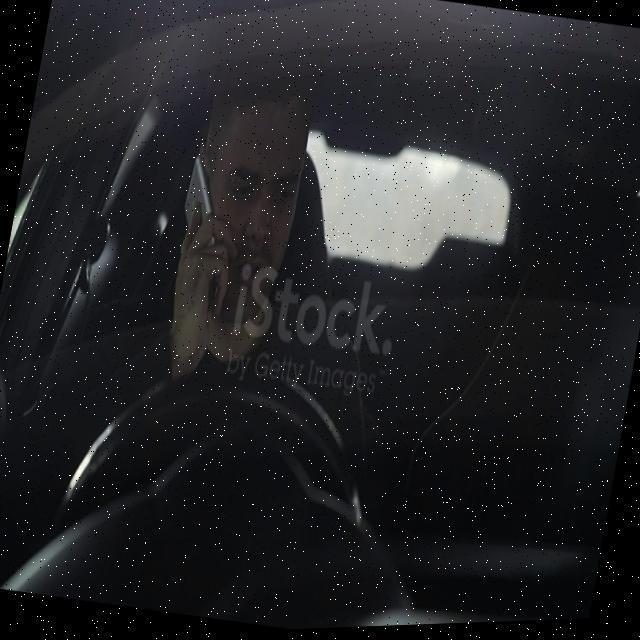PhoneCall: (170, 154, 233, 288)
